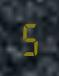five: (19, 20, 38, 56)
